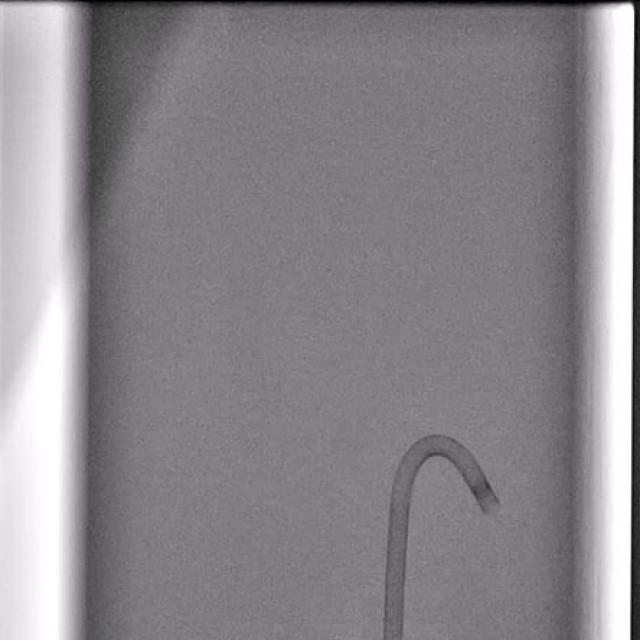bend: (390, 485, 414, 502)
entry: (382, 634, 403, 640)
marker: (469, 479, 494, 500)
tip: (484, 501, 502, 516)
